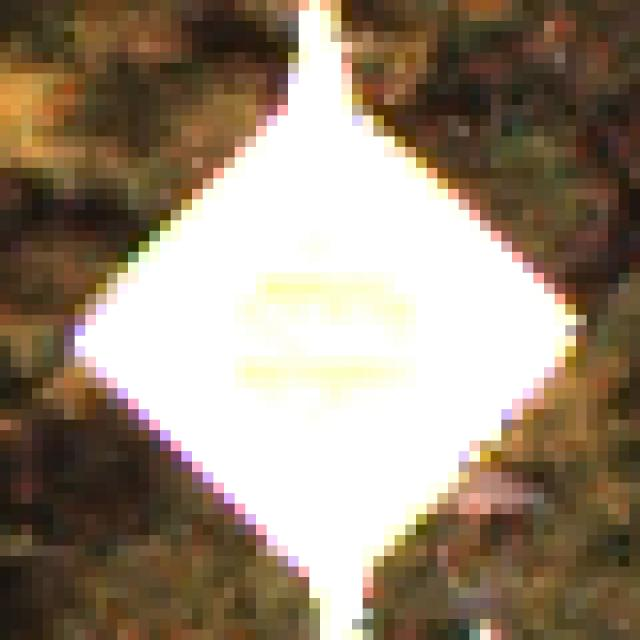Main Road: (65, 64, 577, 578)
